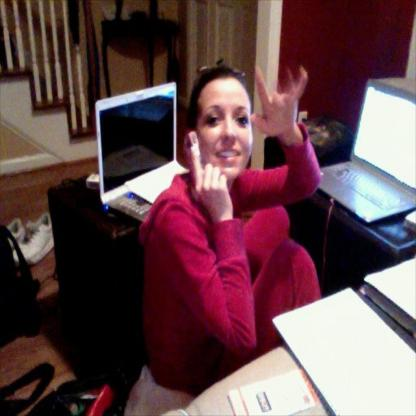board: (327, 67, 413, 259), (96, 83, 191, 222)
